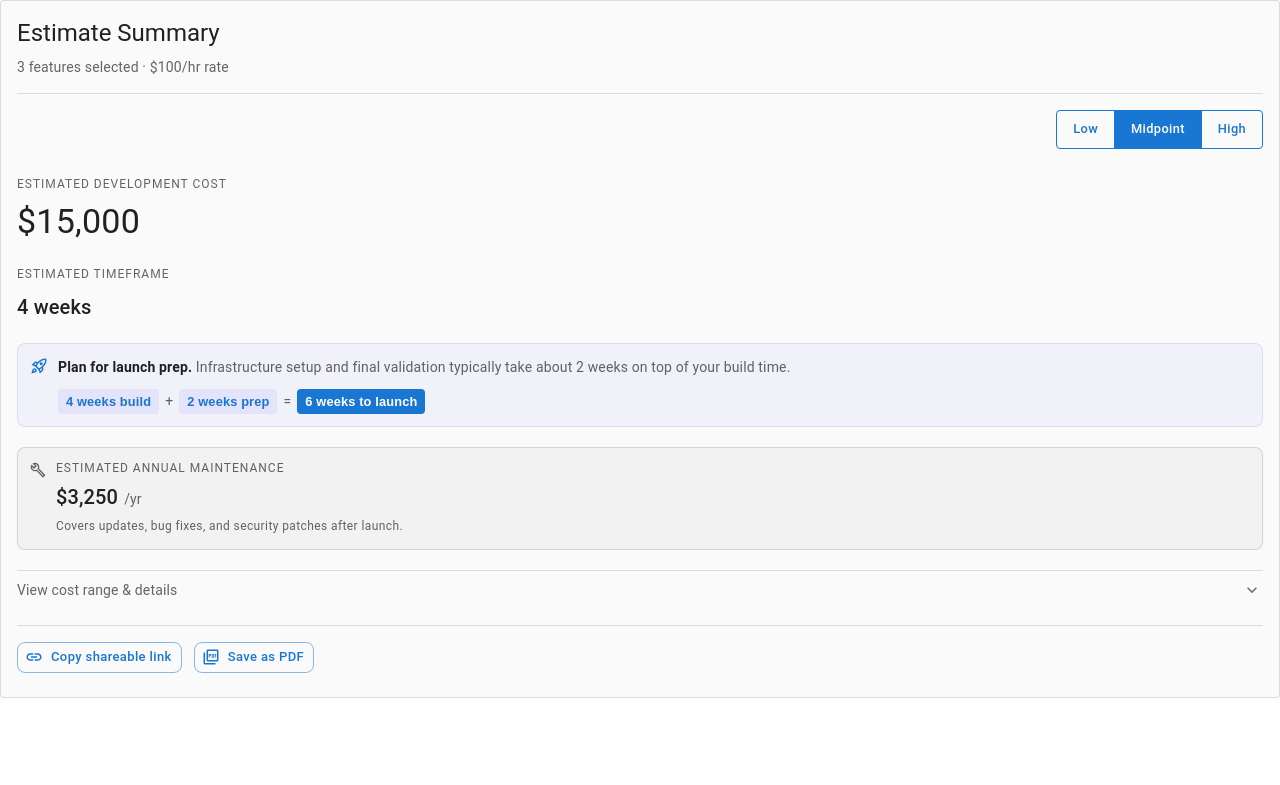
Scenario: EstimateResults › expand/collapse cost range details › clicking icon button toggles details
The width and height of the screenshot is (1280, 785).
Click the button named "Toggle details": [1252, 590] box [1237,575,1267,605]
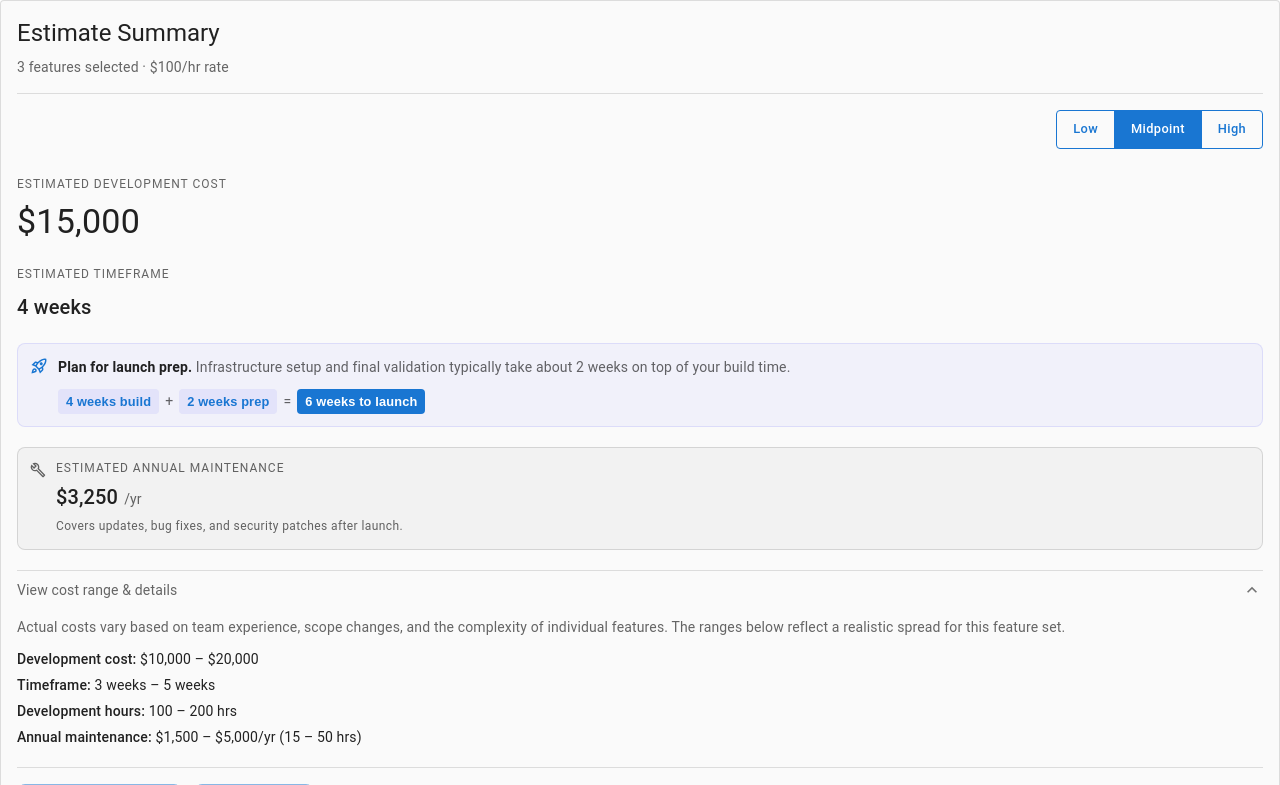
expect the text "Development cost: $10,000 – $20,000" is shown: met, box [17,651,259,667]
